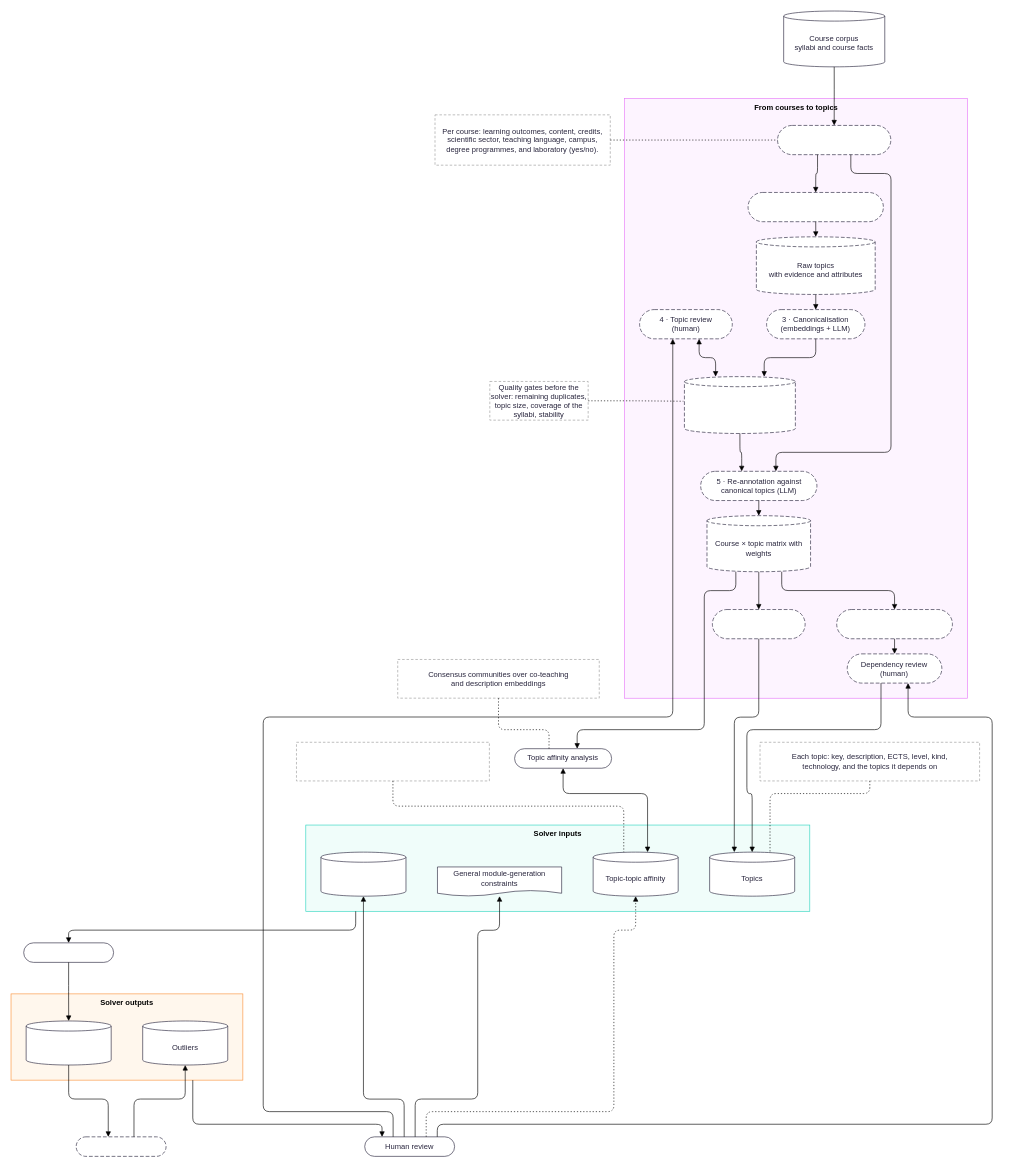
This 1009x1167 diagram has some shape labels left out. Each missing label, with the centre of its shape:
"1 · Evidence preparation (no LLM)" goes at pixel 834 140.
"2 · Per-course topic extraction (LLM, each course on its own)" goes at pixel 815 207.
"6 · Derived inputs (no LLM)" goes at pixel 758 624.
"7 · Dependency proposal (LLM on plausible pairs)" goes at pixel 894 624.
"Canonical topics and raw-to-canonical mapping" goes at pixel 739 405.
"Missing topic affinity means anti-affinity; could be mandatory or weighted" goes at pixel 392 761.
"Modules proposal" goes at pixel 68 1042.
"Outliers detection" goes at pixel 121 1146.
"Prefixed modules" goes at pixel 363 874.
"Solver" goes at pixel 68 952.
